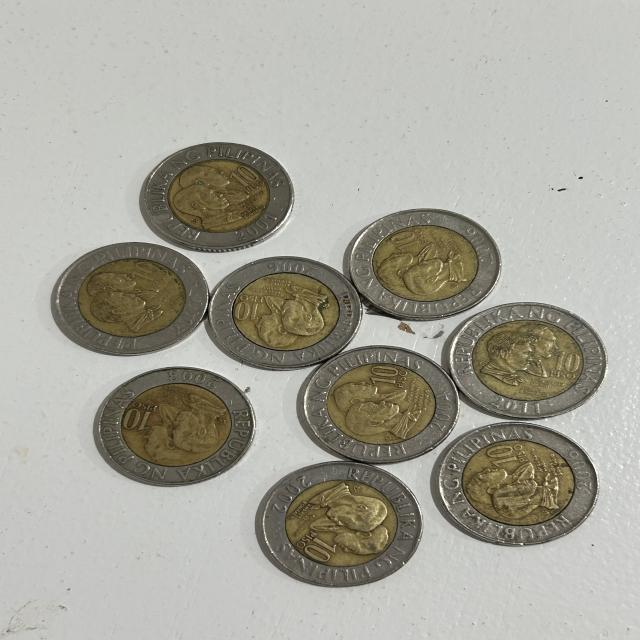10_Old_Front: (284, 521, 348, 570), (108, 394, 170, 434), (361, 352, 418, 392)
